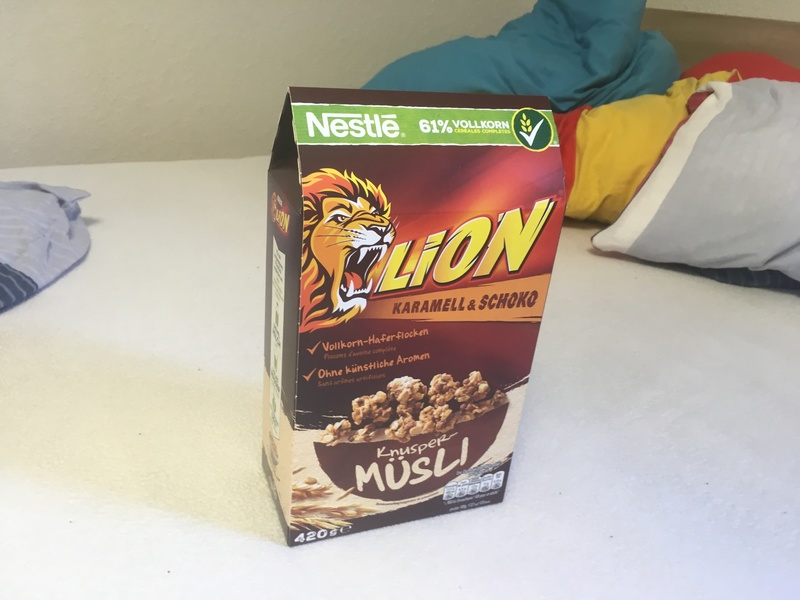cereals: (261, 85, 566, 550)
